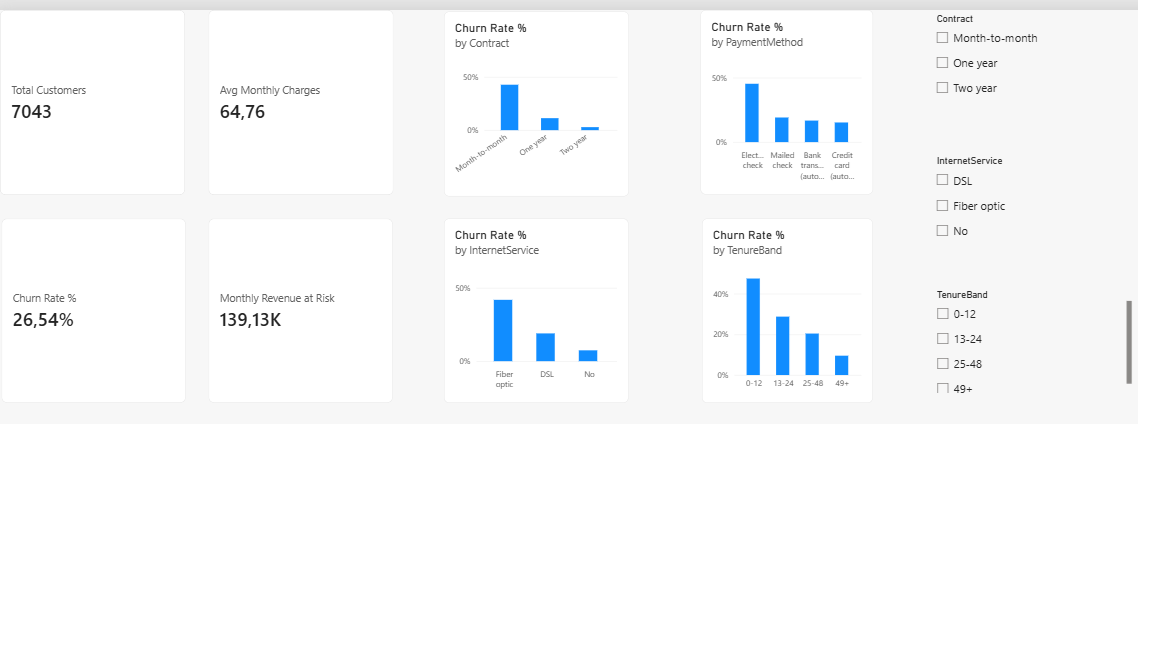

This screenshot's page, from the dashboard's own definition file:
{"tool":"powerbi","page":{"name":"Page 1","canvas":[1920,1080],"ordinal":0},"visuals":[{"type":"cardVisual","fields":{"Data":["WA_Fn-UseC_-Telco-Customer-Churn.Total Customers"]},"box":[10,0,280,280],"z":0},{"type":"cardVisual","fields":{"Data":["WA_Fn-UseC_-Telco-Customer-Churn.Churn Rate %"]},"box":[11.4,315.7,279.4,279.4],"z":2000},{"type":"cardVisual","fields":{"Data":["WA_Fn-UseC_-Telco-Customer-Churn.Avg Monthly Charges"]},"box":[324.8,0,280,280],"z":3000},{"type":"cardVisual","fields":{"Data":["WA_Fn-UseC_-Telco-Customer-Churn.Monthly Revenue at Risk"]},"box":[324.8,315.7,279.4,279.4],"z":4000},{"type":"lineClusteredColumnComboChart","fields":{"Category":["WA_Fn-UseC_-Telco-Customer-Churn.Contract"],"Y":["WA_Fn-UseC_-Telco-Customer-Churn.Churn Rate %"]},"box":[681.4,2.3,280,280],"z":5000},{"type":"lineClusteredColumnComboChart","fields":{"Category":["WA_Fn-UseC_-Telco-Customer-Churn.TenureBand"],"Y":["WA_Fn-UseC_-Telco-Customer-Churn.Churn Rate %"]},"box":[1072.1,315.7,258.9,279.4],"z":6000},{"type":"lineClusteredColumnComboChart","fields":{"Category":["WA_Fn-UseC_-Telco-Customer-Churn.InternetService"],"Y":["WA_Fn-UseC_-Telco-Customer-Churn.Churn Rate %"]},"box":[681.4,315.7,279.4,279.4],"z":7000},{"type":"lineClusteredColumnComboChart","fields":{"Category":["WA_Fn-UseC_-Telco-Customer-Churn.PaymentMethod"],"Y":["WA_Fn-UseC_-Telco-Customer-Churn.Churn Rate %"]},"box":[1069.8,0,261.2,279.4],"z":8000},{"type":"slicer","fields":{"Values":["WA_Fn-UseC_-Telco-Customer-Churn.Contract"]},"box":[1419.6,4.5,268,277.1],"z":9000},{"type":"slicer","fields":{"Values":["WA_Fn-UseC_-Telco-Customer-Churn.InternetService"]},"box":[1419.6,220.3,268,279.4],"z":10000},{"type":"slicer","fields":{"Values":["WA_Fn-UseC_-Telco-Customer-Churn.TenureBand"]},"box":[1419.6,422.5,303.3,155.9],"z":11000}]}

Visuals, with their boxes in screenshot pixels (x1, y1, x2, y2), scaled from the page's 1920x1080 canvas onto the 1152x648 screenshot:
cardVisual - WA_Fn-UseC_-Telco-Customer-Churn.Total Customers: (6, 0, 174, 168)
cardVisual - WA_Fn-UseC_-Telco-Customer-Churn.Churn Rate %: (7, 189, 174, 357)
cardVisual - WA_Fn-UseC_-Telco-Customer-Churn.Avg Monthly Charges: (195, 0, 363, 168)
cardVisual - WA_Fn-UseC_-Telco-Customer-Churn.Monthly Revenue at Risk: (195, 189, 363, 357)
lineClusteredColumnComboChart - WA_Fn-UseC_-Telco-Customer-Churn.Contract x WA_Fn-UseC_-Telco-Customer-Churn.Churn Rate %: (409, 1, 577, 169)
lineClusteredColumnComboChart - WA_Fn-UseC_-Telco-Customer-Churn.TenureBand x WA_Fn-UseC_-Telco-Customer-Churn.Churn Rate %: (643, 189, 799, 357)
lineClusteredColumnComboChart - WA_Fn-UseC_-Telco-Customer-Churn.InternetService x WA_Fn-UseC_-Telco-Customer-Churn.Churn Rate %: (409, 189, 576, 357)
lineClusteredColumnComboChart - WA_Fn-UseC_-Telco-Customer-Churn.PaymentMethod x WA_Fn-UseC_-Telco-Customer-Churn.Churn Rate %: (642, 0, 799, 168)
slicer - WA_Fn-UseC_-Telco-Customer-Churn.Contract: (852, 3, 1013, 169)
slicer - WA_Fn-UseC_-Telco-Customer-Churn.InternetService: (852, 132, 1013, 300)
slicer - WA_Fn-UseC_-Telco-Customer-Churn.TenureBand: (852, 254, 1034, 347)
